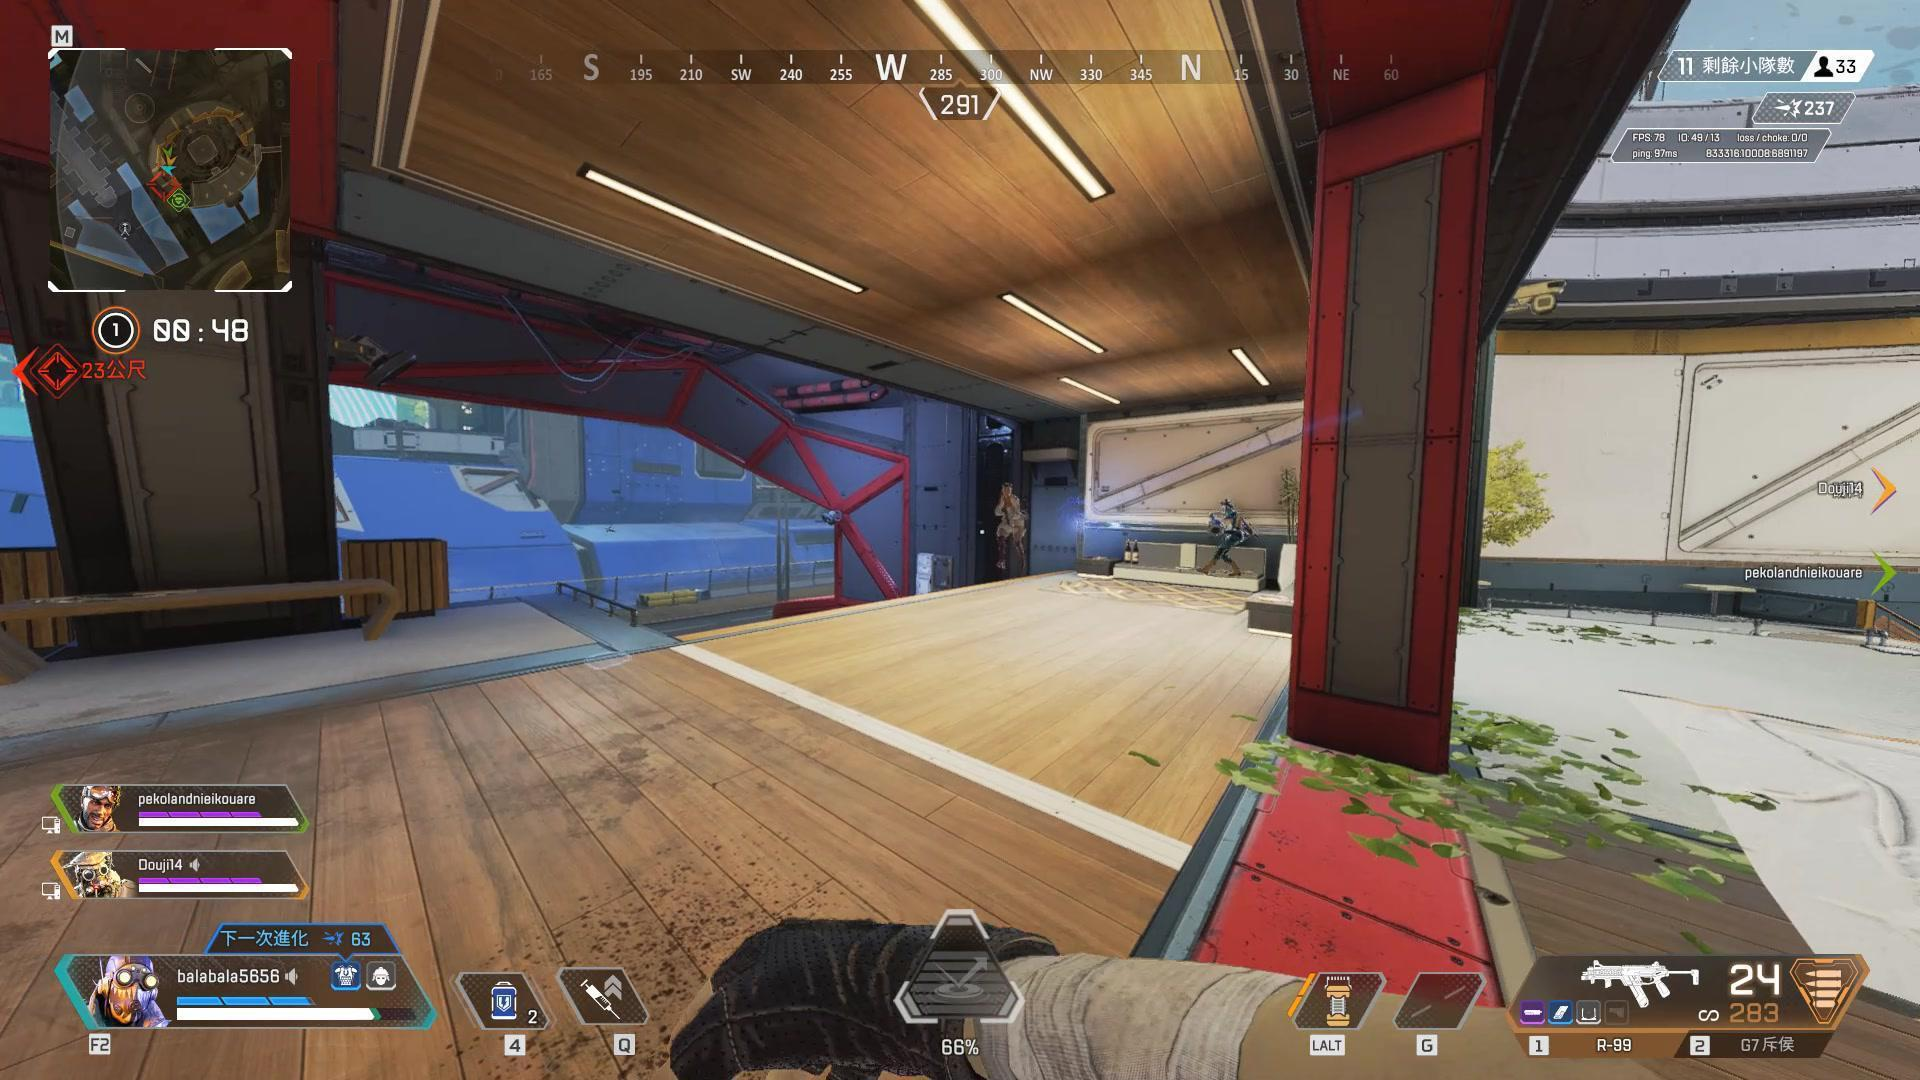avatar: (1205, 495, 1255, 582), (990, 480, 1031, 577)
